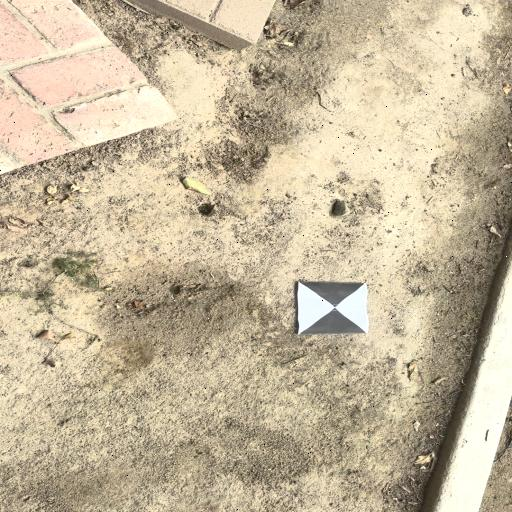target: (298, 281, 369, 335)
